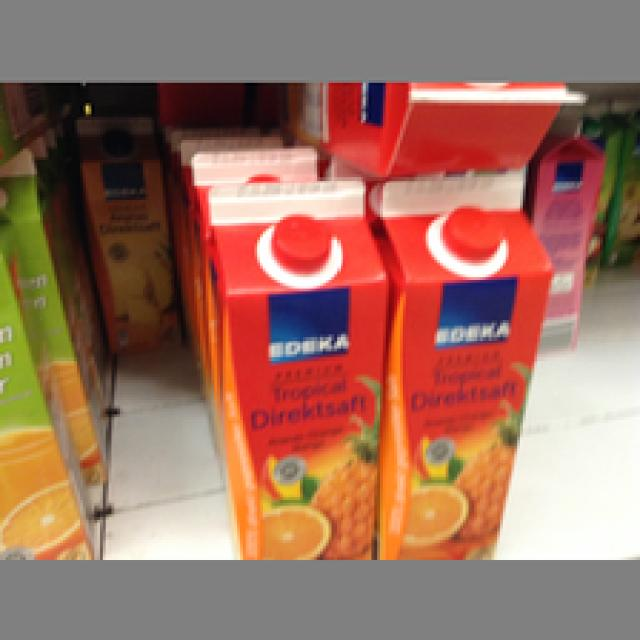groceries: (366, 169, 551, 554), (197, 175, 383, 554), (72, 111, 177, 352)
